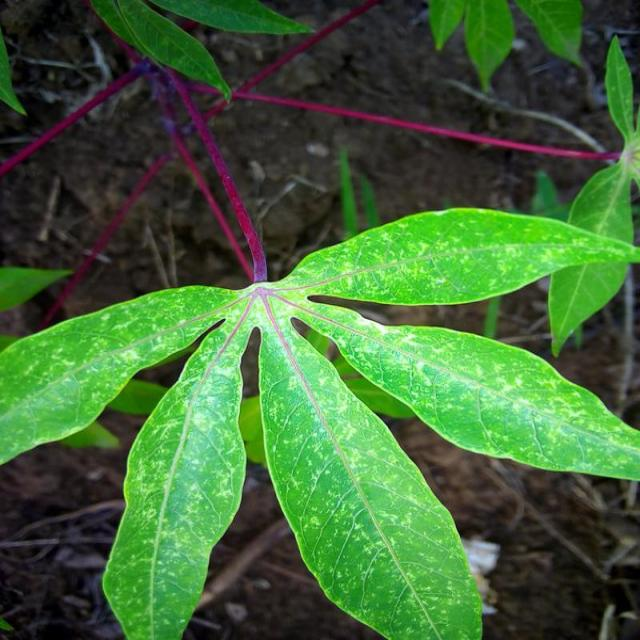cassava leaf: (2, 200, 639, 638), (258, 310, 484, 638), (299, 304, 640, 482), (102, 307, 250, 638)
